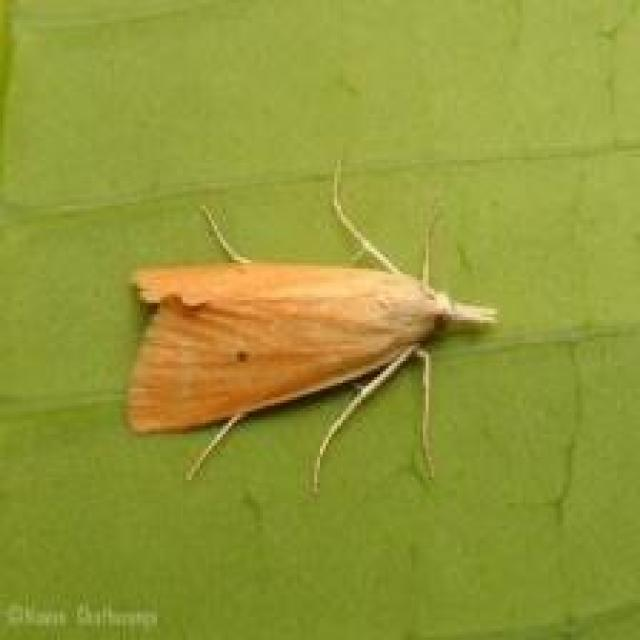yellow-stem-borer: (109, 183, 522, 506)
